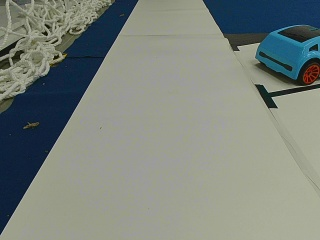car: (255, 24, 318, 85)
